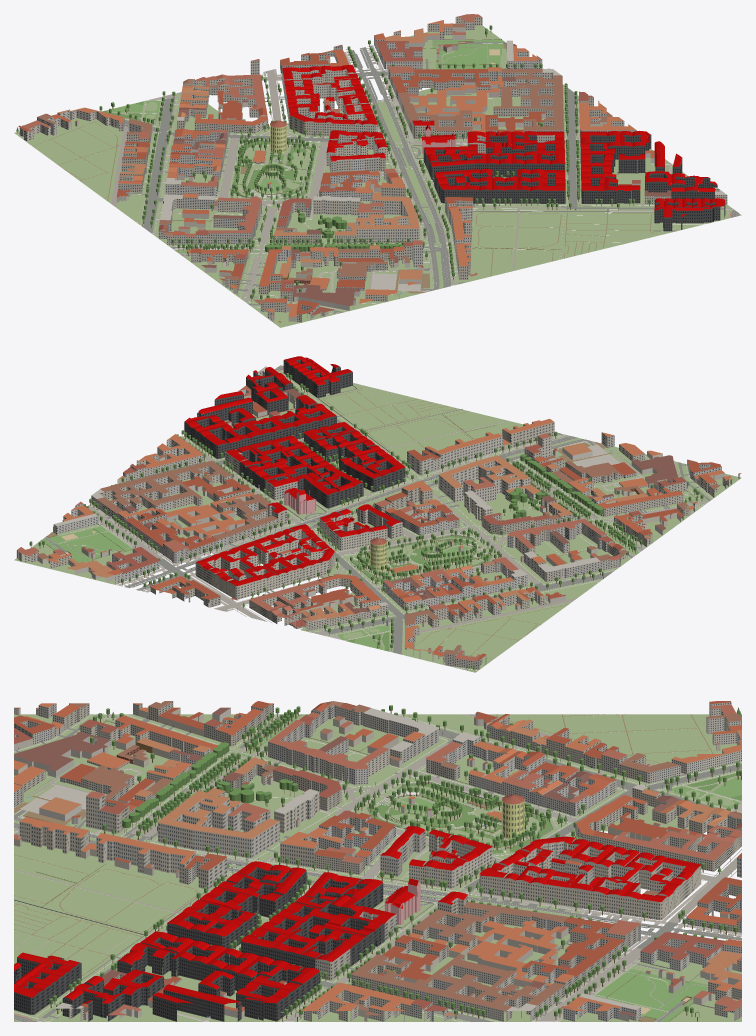
3 views of the same model, one above another, from view 1: azimuth 30°, elevation 25°; view 2: azimuth 150°, elevation 25°; view 3: azimuth 270°, elevation 25° (orthographic). The views are drawn at different scales.
Bounding box in the file's own units: 750 × 45.12 × 750.
3 materials, 1 textured.
